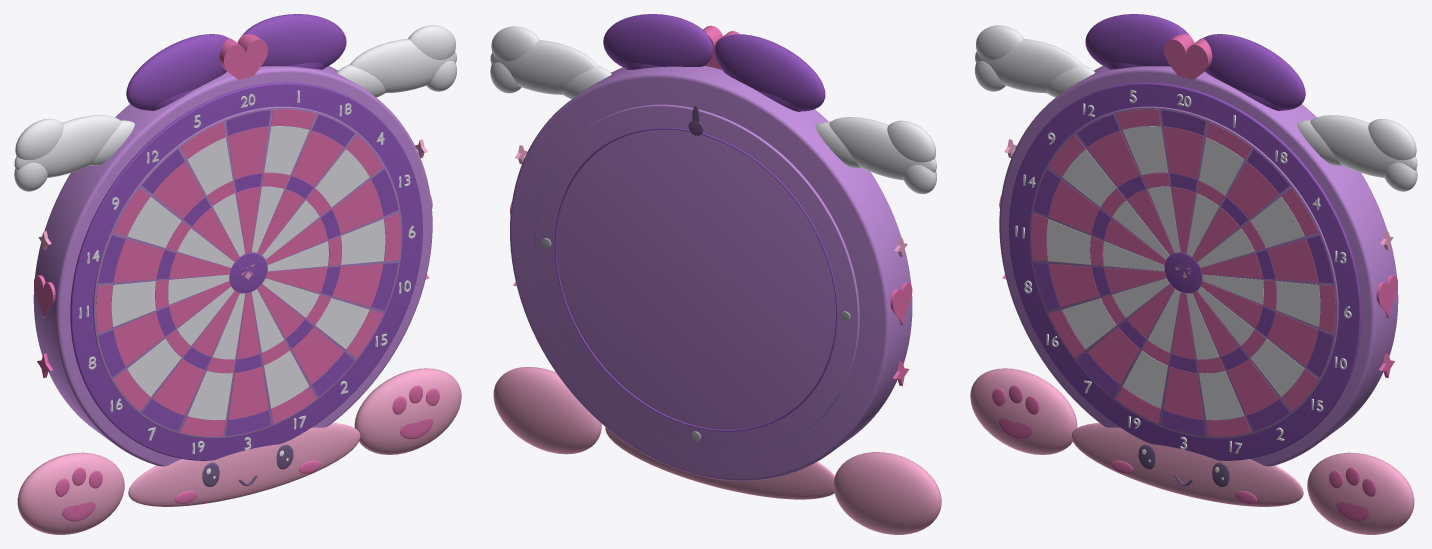
The model's file is LavenderChibiDartboard_400x400x48mm.fbx.
The picture shows the model from 3 angles, left to right: view 1: azimuth 30°, elevation 25°; view 2: azimuth 150°, elevation 25°; view 3: azimuth 330°, elevation 25°; orthographic projection.
Parts seen in each view (by area): view 1: Dartboard_TargetSegments, Dartboard_NumberRing, Dartboard_MainShell, Dartboard_TargetBacking, Dartboard_FacePanel, Dartboard_Paw_R, Dartboard_Paw_L, Dartboard_Bow_UpperL, Dartboard_Bow_UpperR, Dartboard_Wing_R_1, Dartboard_Wing_L_1, Dartboard_BowHeart (+9 smaller); view 2: Dartboard_RearCover, Dartboard_MainShell, Dartboard_Paw_L, Dartboard_Paw_R, Dartboard_Bow_UpperL, Dartboard_Bow_UpperR, Dartboard_FacePanel, Dartboard_Wing_R_1, Dartboard_Wing_L_1, Dartboard_RearCoverRing, Dartboard_Wing_L_2, Dartboard_Wing_R_2 (+5 smaller); view 3: Dartboard_TargetSegments, Dartboard_NumberRing, Dartboard_MainShell, Dartboard_TargetBacking, Dartboard_FacePanel, Dartboard_Paw_L, Dartboard_Paw_R, Dartboard_Bow_UpperR, Dartboard_Bow_UpperL, Dartboard_Wing_L_1, Dartboard_Wing_R_1, Dartboard_BowHeart (+9 smaller).
Boxes of the visible parts, bbox=[...] form: Dartboard_TargetSegments: bbox=[96, 109, 400, 436]; Dartboard_NumberRing: bbox=[70, 82, 422, 460]; Dartboard_MainShell: bbox=[33, 66, 432, 466]; Dartboard_TargetBacking: bbox=[93, 106, 402, 438]; Dartboard_FacePanel: bbox=[128, 423, 360, 506]; Dartboard_Paw_R: bbox=[354, 368, 461, 454]; Dartboard_Paw_L: bbox=[17, 452, 124, 534]; Dartboard_Bow_UpperL: bbox=[126, 34, 228, 110]; Dartboard_Bow_UpperR: bbox=[242, 14, 346, 67]; Dartboard_Wing_R_1: bbox=[350, 39, 456, 93]; Dartboard_Wing_L_1: bbox=[14, 115, 121, 177]; Dartboard_BowHeart: bbox=[219, 34, 267, 79]; Dartboard_RearCover: bbox=[535, 104, 859, 453]; Dartboard_MainShell: bbox=[510, 66, 912, 480]; Dartboard_Paw_L: bbox=[833, 452, 941, 534]; Dartboard_Paw_R: bbox=[493, 367, 601, 454]; Dartboard_Bow_UpperL: bbox=[715, 34, 825, 111]; Dartboard_Bow_UpperR: bbox=[603, 14, 713, 68]; Dartboard_FacePanel: bbox=[605, 427, 834, 499]; Dartboard_Wing_R_1: bbox=[490, 40, 598, 94]; Dartboard_Wing_L_1: bbox=[829, 117, 936, 180]; Dartboard_RearCoverRing: bbox=[554, 127, 837, 431]; Dartboard_Wing_L_2: bbox=[887, 120, 935, 162]; Dartboard_Wing_R_2: bbox=[491, 26, 539, 61]; Dartboard_TargetSegments: bbox=[1031, 109, 1335, 436]; Dartboard_NumberRing: bbox=[1009, 82, 1361, 460]; Dartboard_MainShell: bbox=[999, 66, 1398, 466]; Dartboard_TargetBacking: bbox=[1029, 106, 1338, 438]; Dartboard_FacePanel: bbox=[1071, 423, 1303, 506]; Dartboard_Paw_L: bbox=[970, 368, 1077, 454]; Dartboard_Paw_R: bbox=[1307, 452, 1414, 534]; Dartboard_Bow_UpperR: bbox=[1203, 34, 1305, 110]; Dartboard_Bow_UpperL: bbox=[1085, 14, 1189, 67]; Dartboard_Wing_L_1: bbox=[975, 39, 1081, 93]; Dartboard_Wing_R_1: bbox=[1310, 115, 1417, 177]; Dartboard_BowHeart: bbox=[1164, 34, 1212, 79].
Size of the model in its own units: 0.4 by 0.4 by 0.048.
